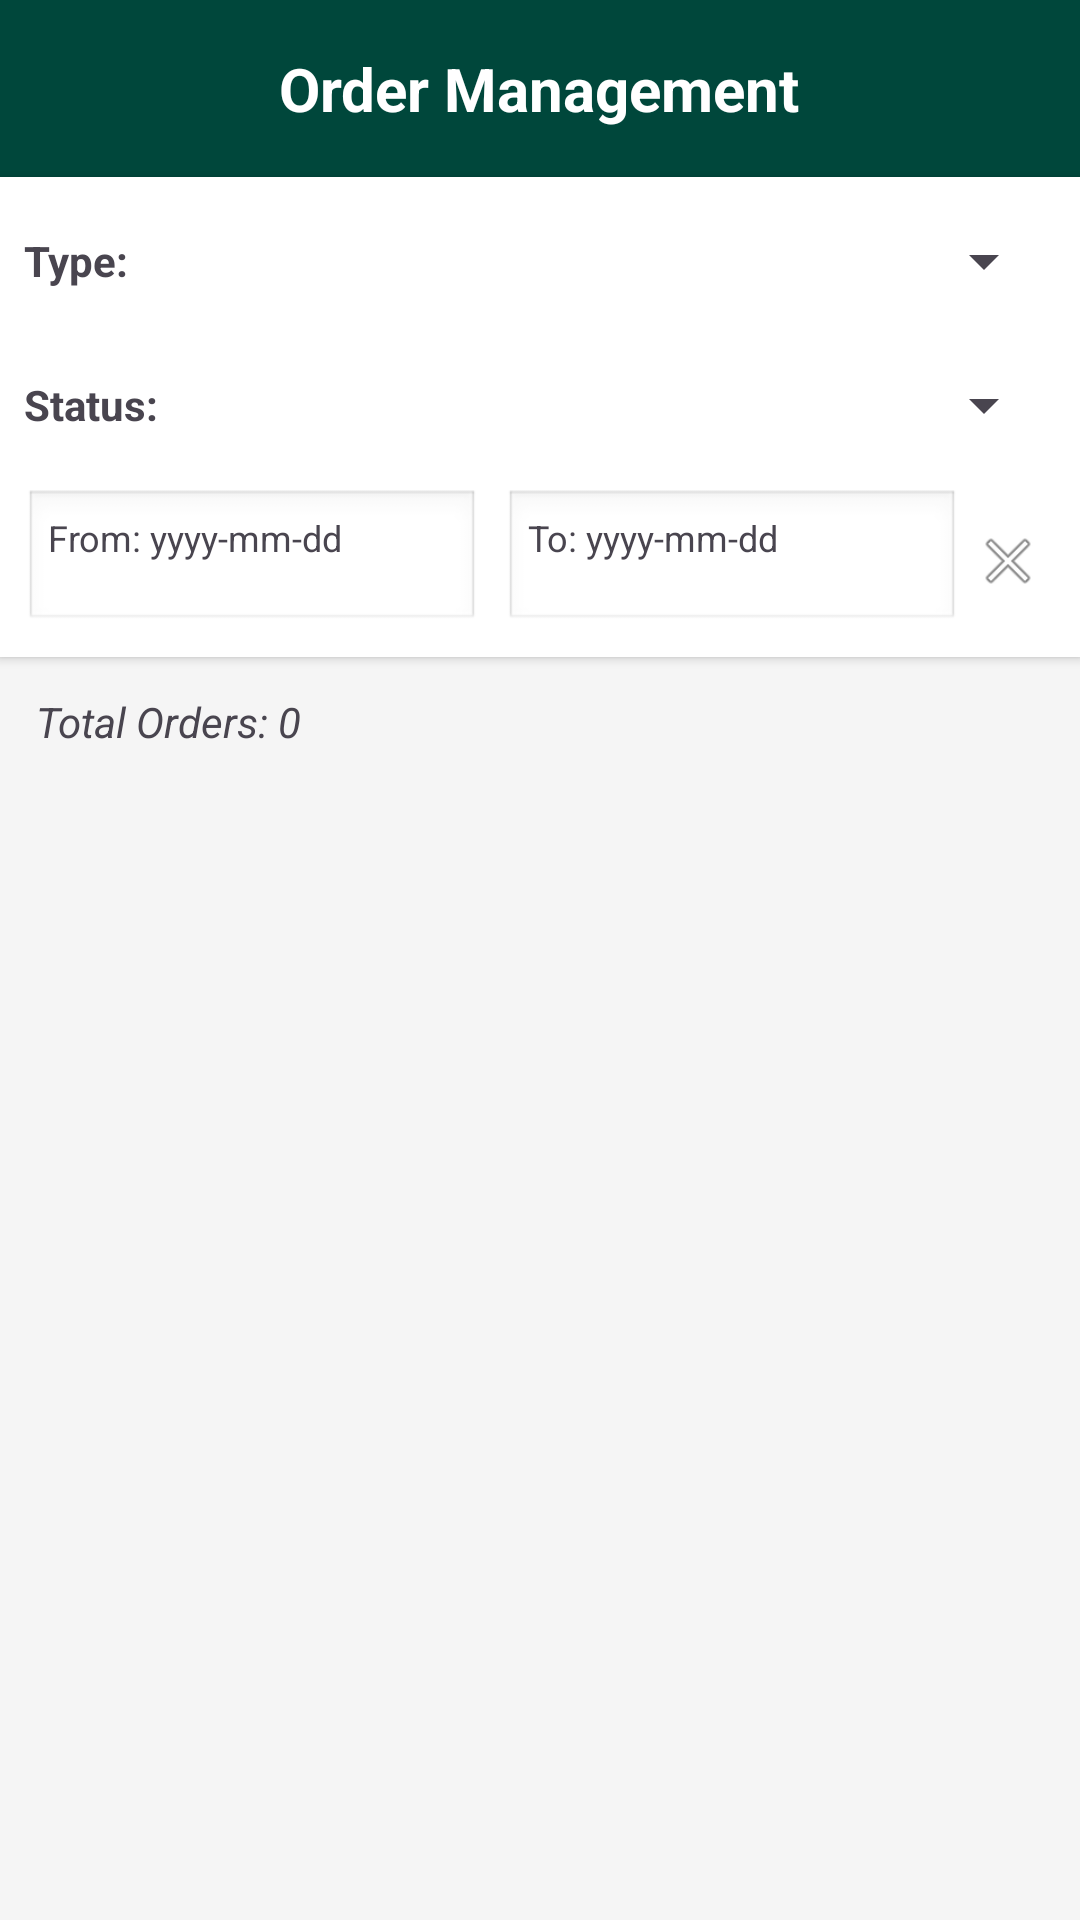

Locate icon controls on the screen. Image size 1080 x 1920, boxes as (x1, y1, x2, y2).
Clear Date: (985, 538, 1031, 584)
